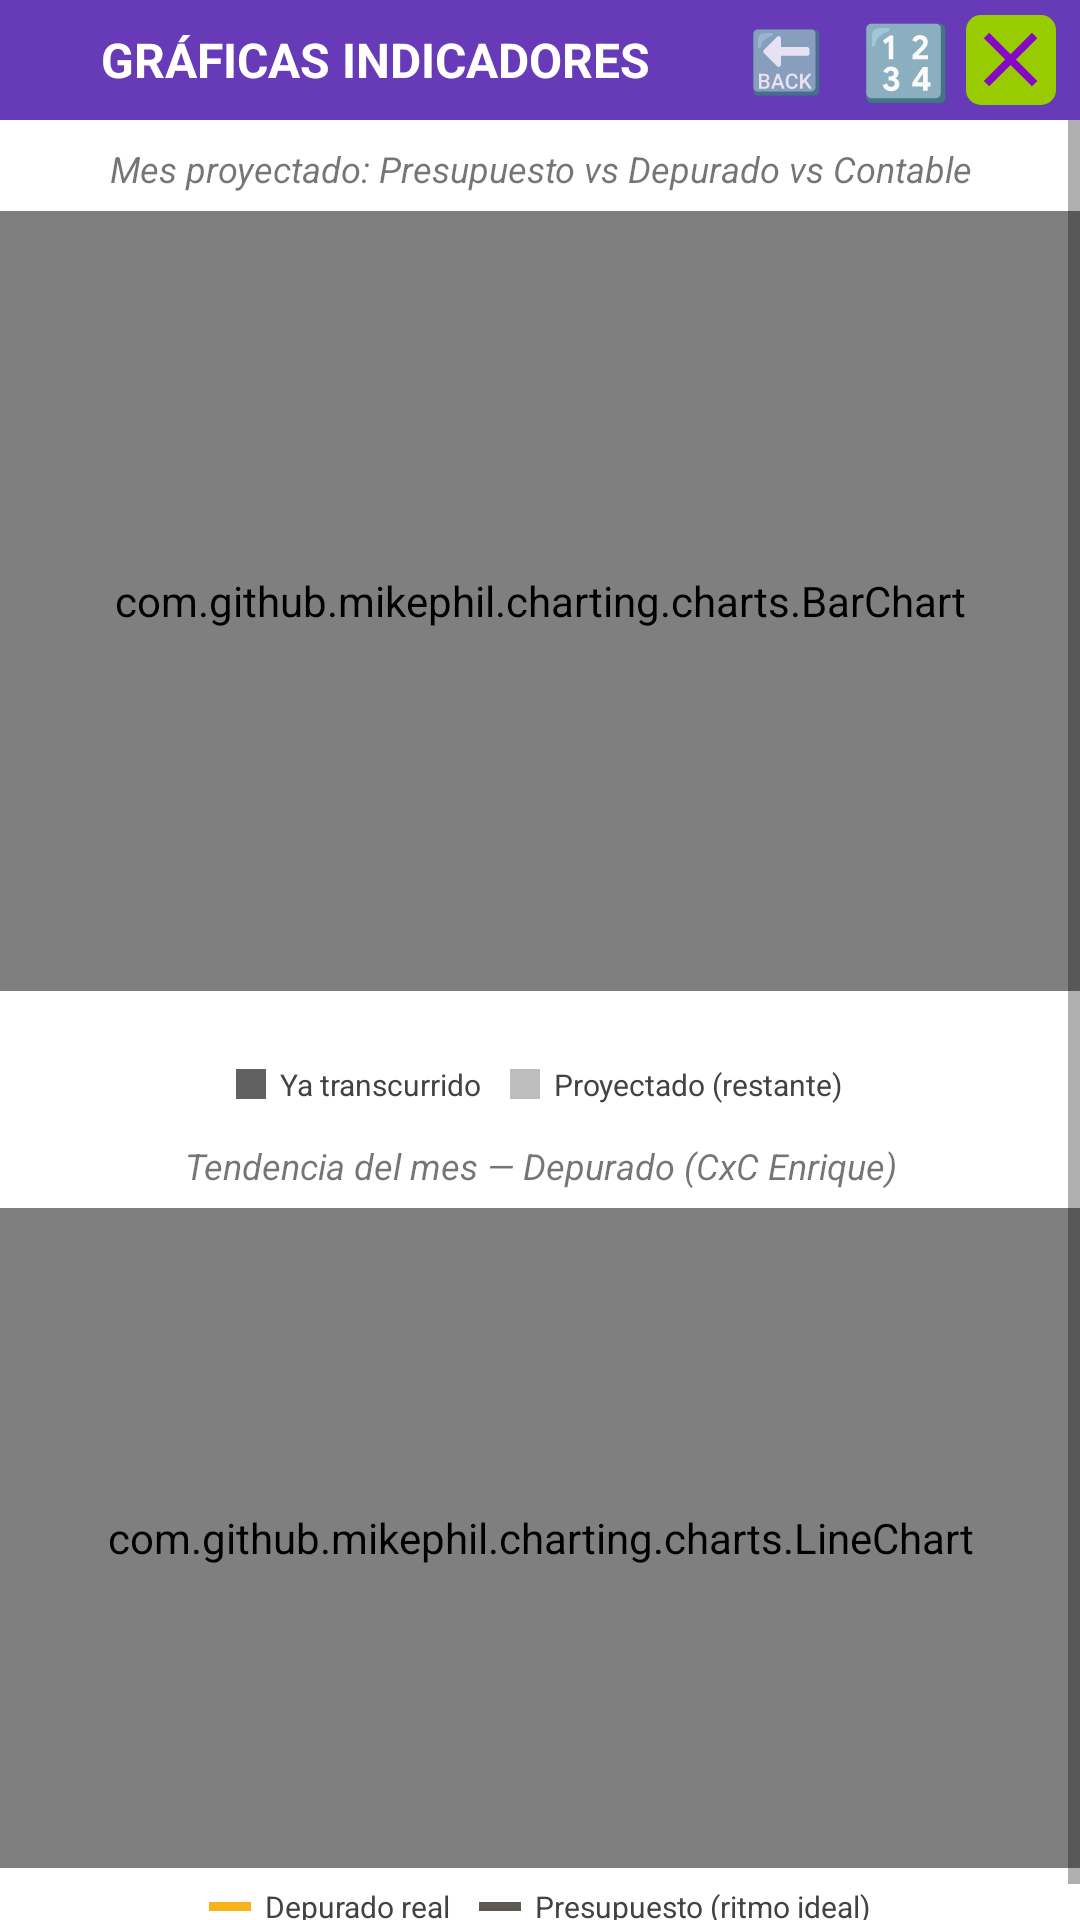

Point at icon controls on the screen. Image size 1080px x 1920px, points as [x,y].
Cerrar: [1011,60]
